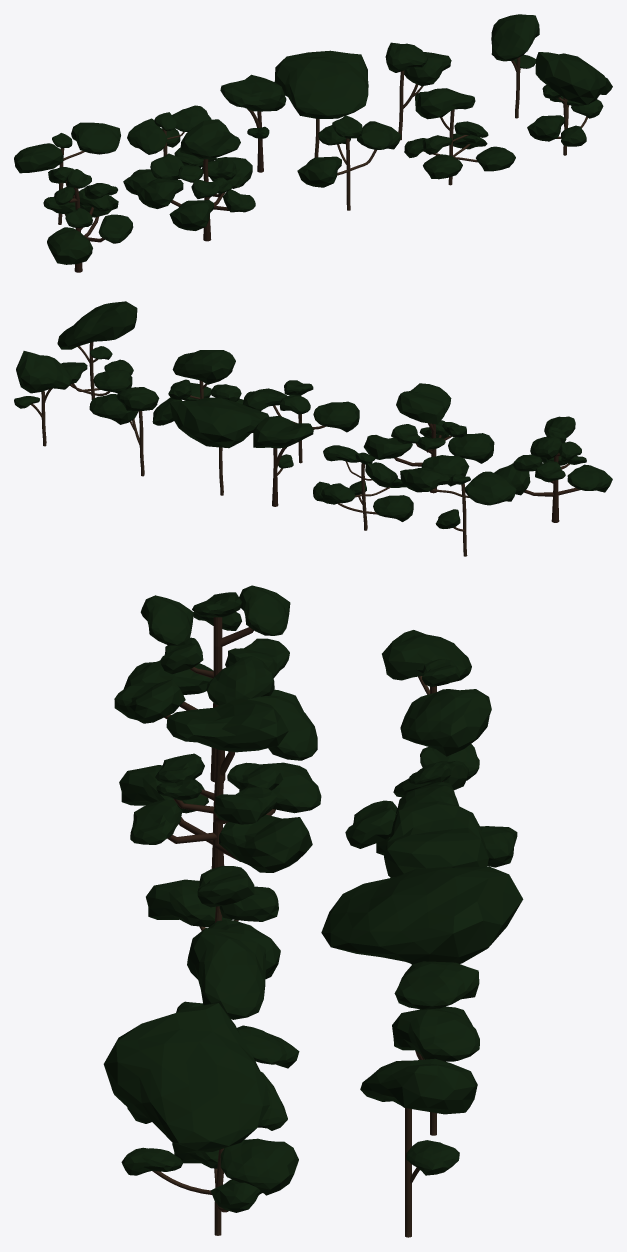
Rendered from Mountain_Trees.FBX.
The picture shows the model from 3 angles, top to bottom: view 1: azimuth 30°, elevation 25°; view 2: azimuth 150°, elevation 25°; view 3: azimuth 270°, elevation 25°; orthographic projection. The views are drawn at different scales.
Visible parts, largest first — view 1: Object125, Object105, Object107, Object121, Object065, Object094, Object109, Object049, Object110, Object060, Object090, Object061 (+26 smaller); view 2: Object125, Object105, Object107, Object065, Object094, Object121, Object110, Object090, Object060, Object049, Object109, Object129 (+21 smaller); view 3: Object105, Object125, Object121, Object094, Object107, Object065, Object109, Object058, Object129, Object130, Object101, Object110 (+27 smaller).
Part boxes in pixels (x1,y1,x2,y2): Object125: (274, 50, 368, 118); Object105: (535, 52, 612, 104); Object107: (491, 14, 539, 61); Object121: (220, 74, 286, 111); Object065: (180, 119, 240, 159); Object094: (415, 88, 475, 119); Object109: (71, 122, 120, 154); Object049: (47, 227, 92, 264); Object110: (14, 143, 63, 173); Object060: (169, 200, 213, 230); Object090: (297, 156, 341, 187); Object061: (136, 178, 183, 208); Object125: (169, 397, 269, 448); Object105: (57, 301, 137, 349); Object107: (16, 351, 72, 393); Object065: (396, 383, 451, 424); Object094: (172, 350, 235, 384); Object121: (253, 415, 313, 448); Object110: (464, 471, 516, 505); Object090: (313, 401, 359, 432); Object060: (448, 433, 494, 463); Object049: (567, 464, 612, 492); Object109: (400, 467, 450, 492); Object129: (89, 394, 138, 424); Object105: (103, 1003, 269, 1152); Object125: (321, 866, 523, 964); Object121: (384, 801, 488, 877); Object094: (187, 928, 265, 1019); Object107: (360, 1058, 477, 1114); Object065: (166, 698, 288, 752); Object109: (400, 689, 491, 756); Object058: (219, 814, 312, 872); Object129: (392, 1006, 479, 1061); Object130: (394, 961, 479, 1009); Object101: (220, 1138, 298, 1195); Object110: (382, 630, 471, 682).
Bounding box in the file's own units: 403 × 75.11 × 135.
